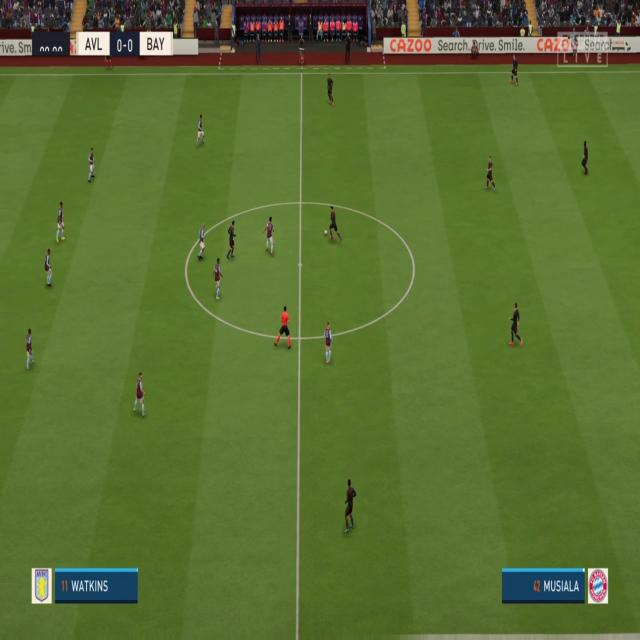Ball: (324, 229, 328, 236)
Referee: (273, 306, 292, 349)
Team-A: (508, 302, 523, 348), (344, 478, 356, 534), (329, 206, 343, 243), (485, 155, 497, 192), (226, 220, 237, 260), (326, 73, 336, 107), (509, 54, 518, 85), (581, 140, 588, 176)
Team-H: (134, 372, 146, 418), (262, 217, 275, 257), (54, 202, 66, 244), (213, 258, 224, 300), (323, 322, 333, 364), (195, 114, 205, 150), (44, 248, 53, 288), (197, 222, 206, 262), (26, 328, 34, 371), (86, 148, 95, 182)
